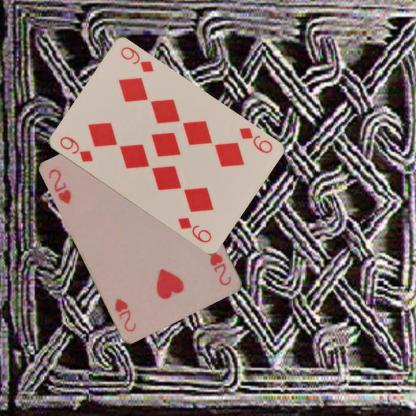2h: (46, 166, 74, 206), (207, 249, 233, 287)
9d: (236, 125, 274, 155), (57, 134, 94, 164)
